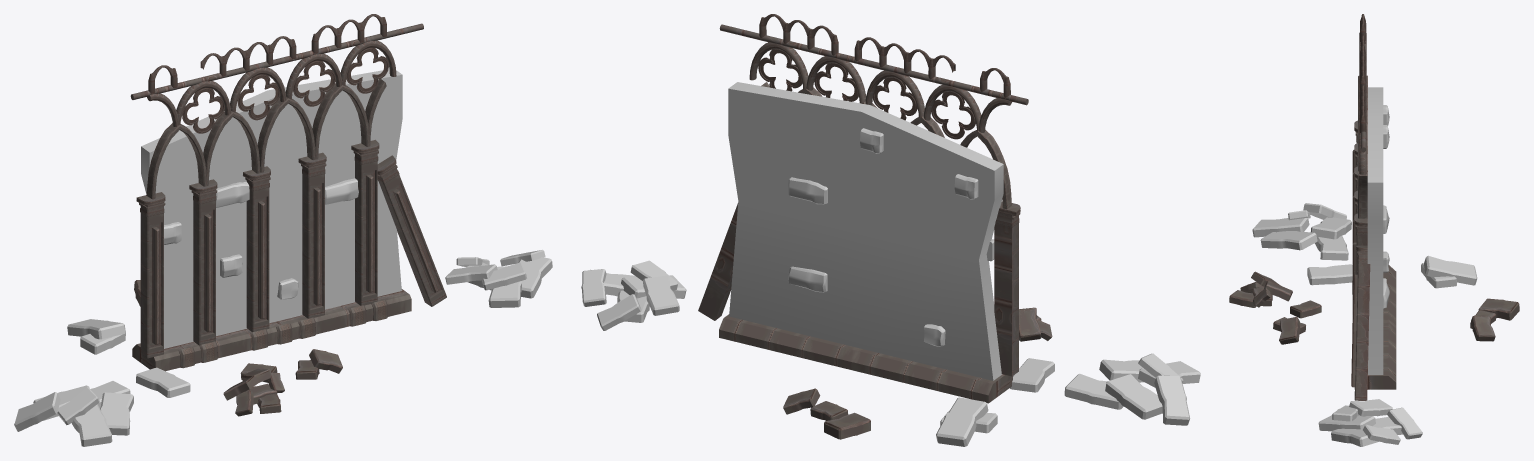
The model's file is ArchitectureSet7.fbx.
3 renders of one model, left to right at view 1: azimuth 30°, elevation 25°; view 2: azimuth 150°, elevation 25°; view 3: azimuth 270°, elevation 25°, orthographic. The views are drawn at different scales.
Visible parts, largest first — view 1: pasted__pasted__pCube119, pasted__pasted__pCube118, pasted__pasted__pCube122, pasted__pasted__pCube121, pasted__pasted__pCube120, pasted__pasted__pCube123, pasted__pasted__pCube124, pasted__pasted__pCube125, pasted__pasted__polySurface312, pasted__pasted__polySurface313, pasted__pasted__polySurface314, pasted__pasted__polySurface311 (+20 smaller); view 2: pasted__pasted__pCube119, pasted__pasted__pCube118, pasted__pasted__pCube122, pasted__pasted__pCube125, pCube369, pCube363, pCube367, pCube355, pCube361, pCube354, pasted__pasted__pCylinder51, pasted__pasted__pCylinder52 (+14 smaller); view 3: pasted__pasted__pCube119, pasted__pasted__pCube125, pasted__pasted__pCube118, pCube369, pCube362, pCube354, pCube365, pCube355, pCube363, pCube379, pCube357, pCube358 (+13 smaller).
Part boxes in pixels (left/top/right/bottom): pasted__pasted__pCube119: left=141, top=69, right=402, bottom=348; pasted__pasted__pCube118: left=132, top=289, right=411, bottom=371; pasted__pasted__pCube122: left=136, top=192, right=165, bottom=358; pasted__pasted__pCube121: left=243, top=166, right=270, bottom=332; pasted__pasted__pCube120: left=189, top=179, right=217, bottom=345; pasted__pasted__pCube123: left=298, top=152, right=326, bottom=318; pasted__pasted__pCube124: left=351, top=139, right=379, bottom=305; pasted__pasted__pCube125: left=377, top=155, right=446, bottom=306; pasted__pasted__polySurface312: left=146, top=123, right=206, bottom=199; pasted__pasted__polySurface313: left=257, top=97, right=315, bottom=172; pasted__pasted__polySurface314: left=312, top=83, right=369, bottom=159; pasted__pasted__polySurface311: left=203, top=111, right=260, bottom=185; pasted__pasted__pCube119: left=728, top=82, right=1003, bottom=380; pasted__pasted__pCube118: left=719, top=314, right=1012, bottom=403; pasted__pasted__pCube122: left=994, top=201, right=1020, bottom=376; pasted__pasted__pCube125: left=698, top=203, right=738, bottom=320; pCube369: left=936, top=397, right=988, bottom=446; pCube363: left=1105, top=374, right=1162, bottom=419; pCube367: left=1154, top=375, right=1190, bottom=425; pCube355: left=1064, top=373, right=1123, bottom=409; pCube361: left=643, top=275, right=679, bottom=315; pCube354: left=1010, top=358, right=1054, bottom=392; pasted__pasted__pCylinder51: left=872, top=61, right=1028, bottom=105; pasted__pasted__pCylinder52: left=719, top=24, right=874, bottom=67; pasted__pasted__pCube119: left=1367, top=87, right=1383, bottom=374; pasted__pasted__pCube125: left=1351, top=245, right=1370, bottom=400; pasted__pasted__pCube118: left=1352, top=265, right=1396, bottom=389; pCube369: left=1424, top=255, right=1477, bottom=285; pCube362: left=1260, top=231, right=1317, bottom=250; pCube354: left=1307, top=264, right=1352, bottom=285; pCube365: left=1252, top=218, right=1309, bottom=237; pCube355: left=1314, top=235, right=1348, bottom=260; pCube363: left=1311, top=217, right=1351, bottom=239; pCube379: left=1478, top=298, right=1519, bottom=320; pCube357: left=1318, top=415, right=1375, bottom=431; pCube358: left=1387, top=407, right=1422, bottom=439.
Size of the model in its own units: 940 by 507 by 479.
